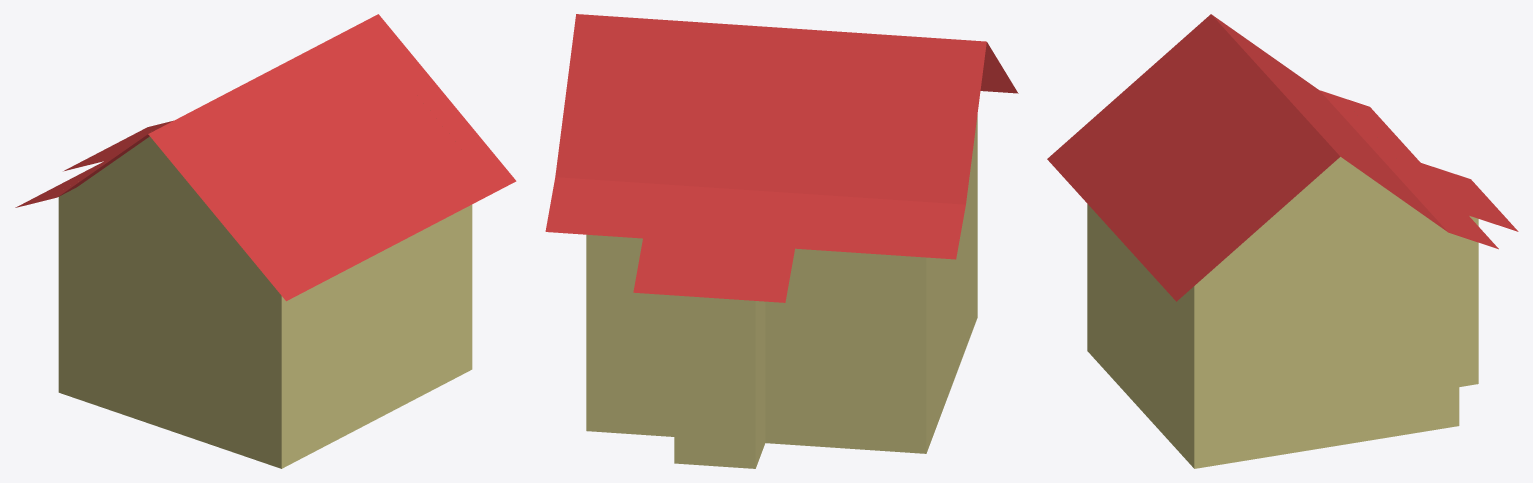
3 views of the same model, side by side, from view 1: azimuth 30°, elevation 25°; view 2: azimuth 150°, elevation 25°; view 3: azimuth 270°, elevation 25° (orthographic). The views are drawn at different scales.
Bounding box in the file's own units: 14.83 × 15.17 × 10.73.
